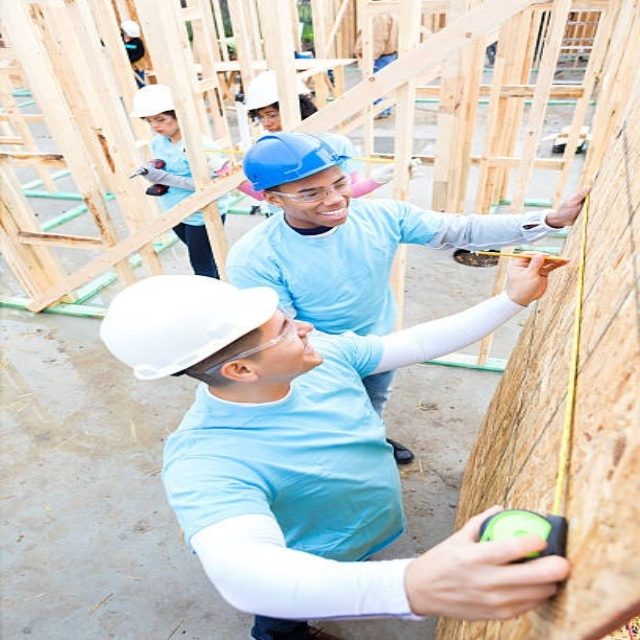Gafas: (201, 313, 303, 375), (268, 172, 351, 203)
Sin_guantes: (410, 506, 574, 623), (502, 250, 577, 302), (549, 182, 602, 224)
Sin_mascara: (285, 329, 325, 370), (314, 205, 347, 220)
